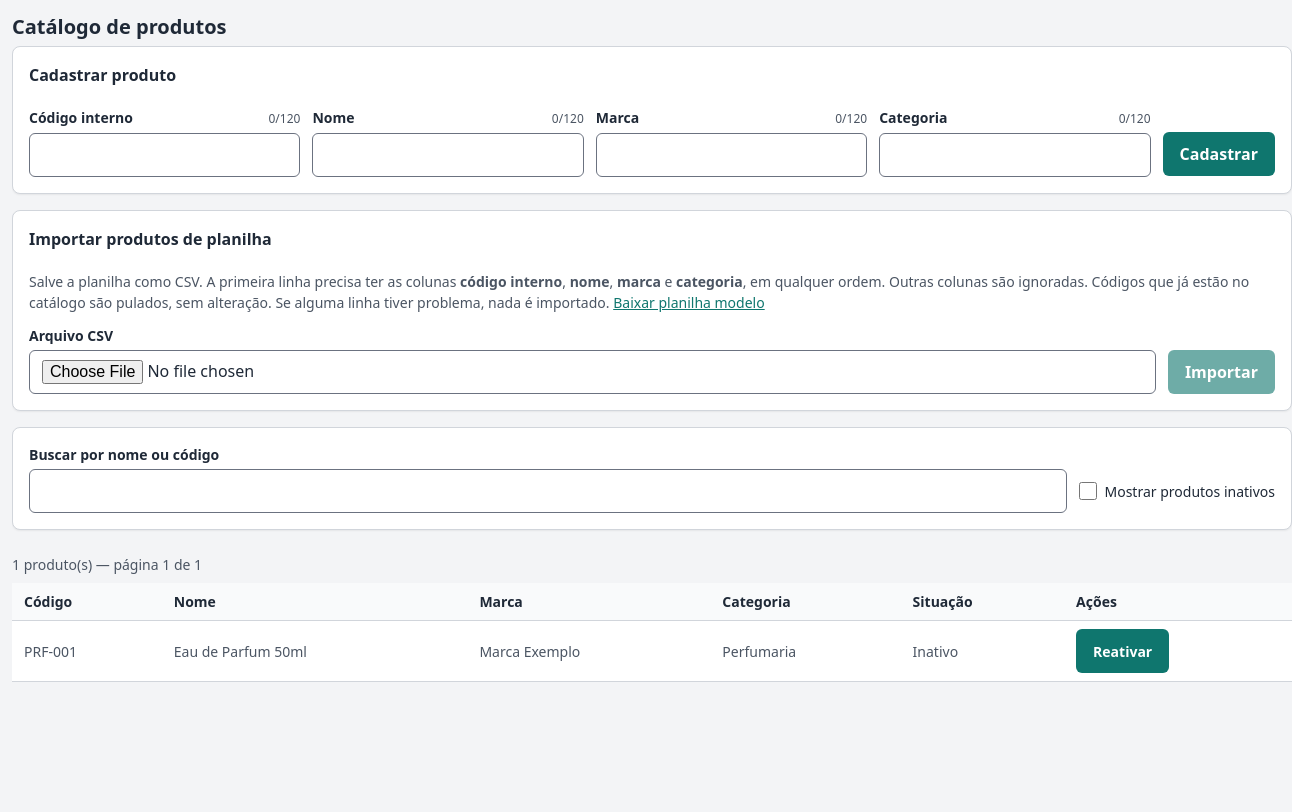
Scenario: TelaProdutos (RF02) › reativa por PATCH um produto inativado
The width and height of the screenshot is (1292, 812).
Click the button "Reativar": x=1123, y=651 1076,629 -> 1169,673
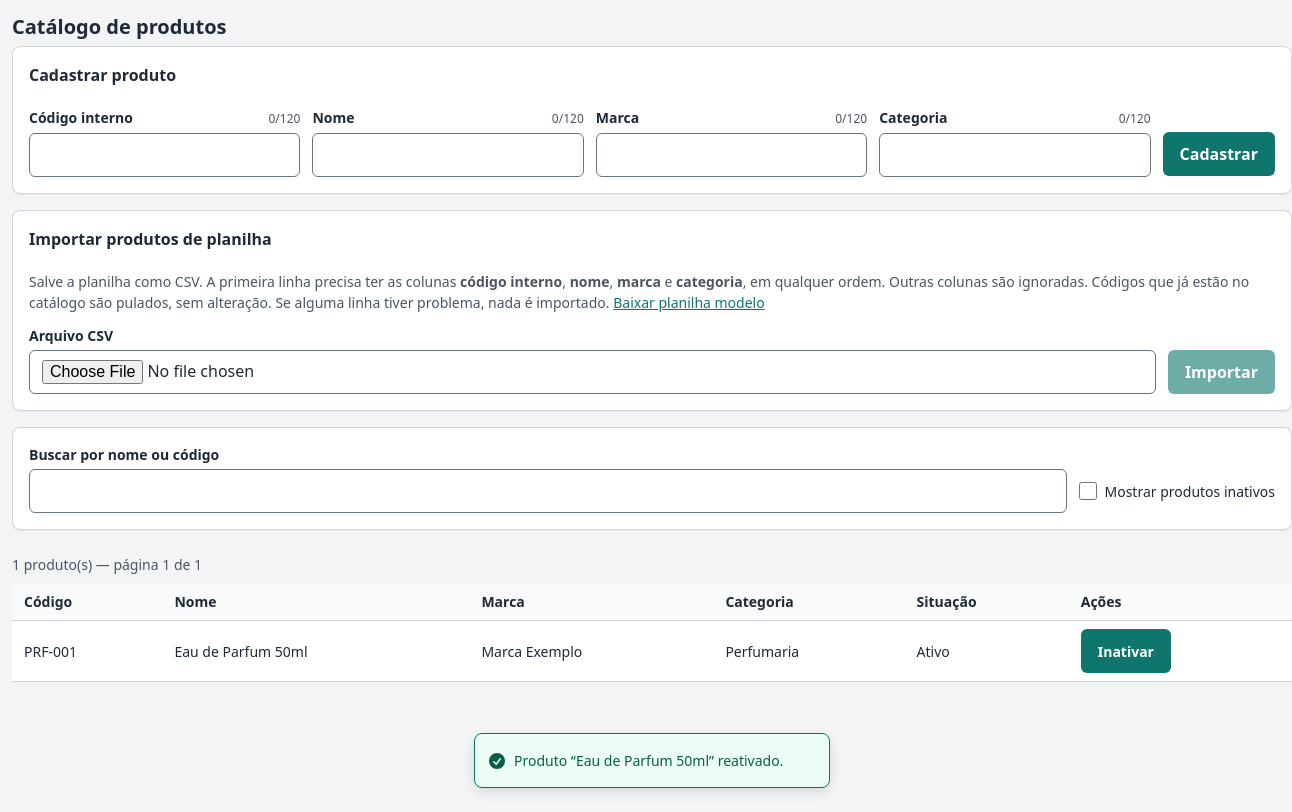
Result: the button "Inativar" is shown at 1081,629 -> 1171,673
